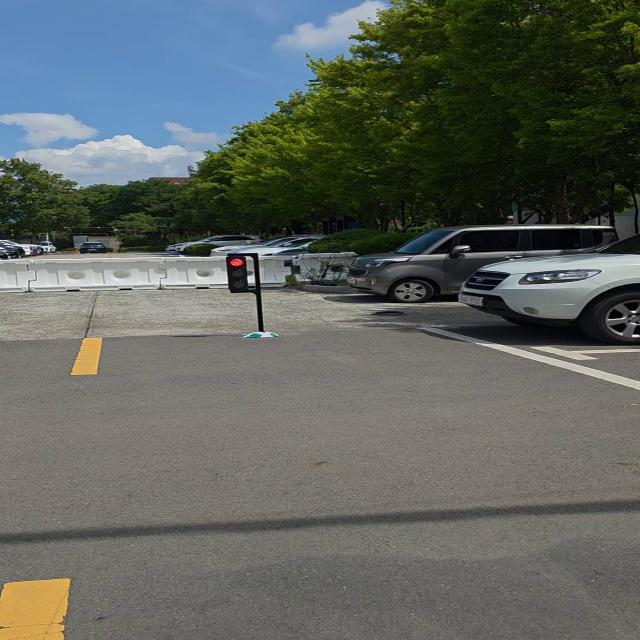red: (221, 255, 252, 296)
